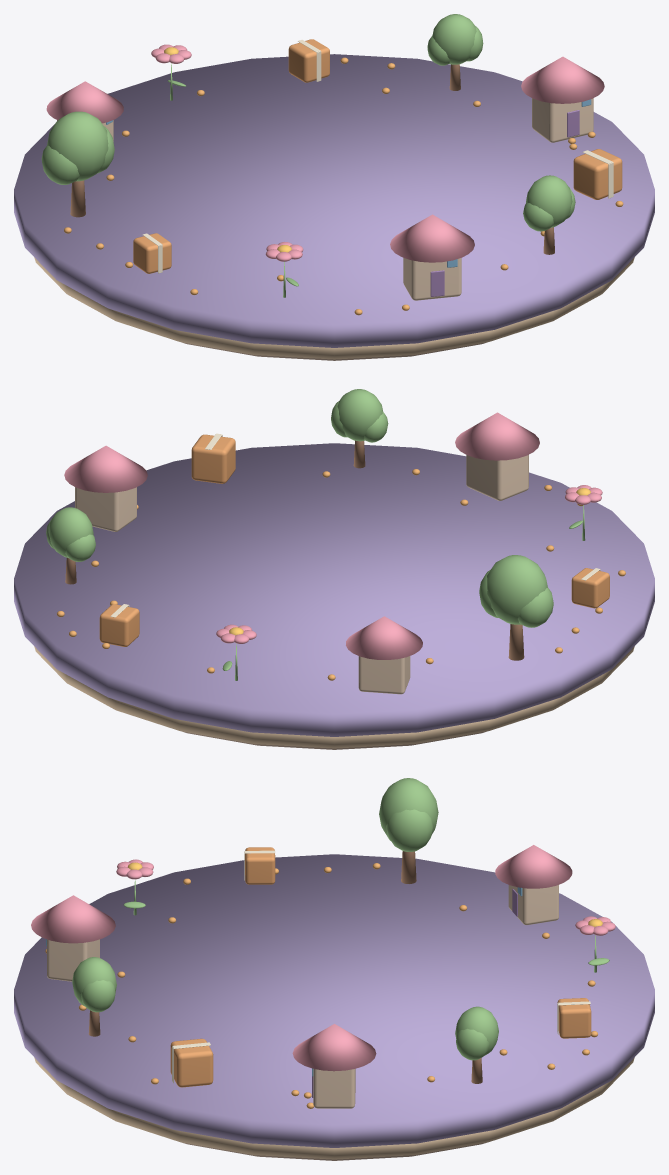
File: world.glb
3 renders of one model, top to bottom at view 1: azimuth 30°, elevation 25°; view 2: azimuth 150°, elevation 25°; view 3: azimuth 270°, elevation 25°, orthographic.
Visible parts, largest first — view 1: Cone, Cone.001, house.003, house.001, tree.002, tree.001, tree.003, parcel.003, house.002, parcel.001, parcel.002, flower.001 (+2 smaller); view 2: Cone, Cone.001, house.003, house.001, tree.002, house.002, tree.003, tree.001, parcel.003, parcel.001, parcel.002, flower.001 (+2 smaller); view 3: Cone, Cone.001, house.001, house.003, house.002, tree.002, tree.003, tree.001, parcel.003, parcel.001, parcel.002, flower.001 (+1 smaller).
Part boxes in pixels (<box>): Cone: <box>14,54,654,347</box>; Cone.001: <box>34,257,634,359</box>; house.003: <box>390,214,474,300</box>; house.001: <box>521,56,604,142</box>; tree.002: <box>41,111,114,217</box>; tree.001: <box>427,14,483,90</box>; tree.003: <box>523,175,575,254</box>; parcel.003: <box>573,149,622,199</box>; house.002: <box>46,81,123,141</box>; parcel.001: <box>288,39,329,82</box>; parcel.002: <box>133,233,171,273</box>; flower.001: <box>151,44,191,100</box>; Cone: <box>14,443,654,736</box>; Cone.001: <box>34,646,634,748</box>; house.003: <box>455,412,539,500</box>; house.001: <box>64,445,147,531</box>; tree.002: <box>479,555,553,660</box>; house.002: <box>346,616,422,694</box>; tree.003: <box>331,389,388,468</box>; tree.001: <box>46,507,95,584</box>; parcel.003: <box>191,433,235,483</box>; parcel.001: <box>99,604,139,646</box>; parcel.002: <box>571,568,609,608</box>; flower.001: <box>216,624,256,680</box>; Cone: <box>14,854,654,1147</box>; Cone.001: <box>34,1057,634,1159</box>; house.001: <box>292,1024,376,1108</box>; house.003: <box>31,895,115,981</box>; house.002: <box>495,845,572,925</box>; tree.002: <box>379,778,438,883</box>; tree.003: <box>72,957,116,1036</box>; tree.001: <box>455,1006,498,1083</box>; parcel.003: <box>170,1038,213,1087</box>; parcel.001: <box>557,998,591,1038</box>; parcel.002: <box>244,847,275,884</box>; flower.001: <box>575,916,615,972</box>.
Size of the model in its own units: 9.6 by 2.45 by 9.6.
